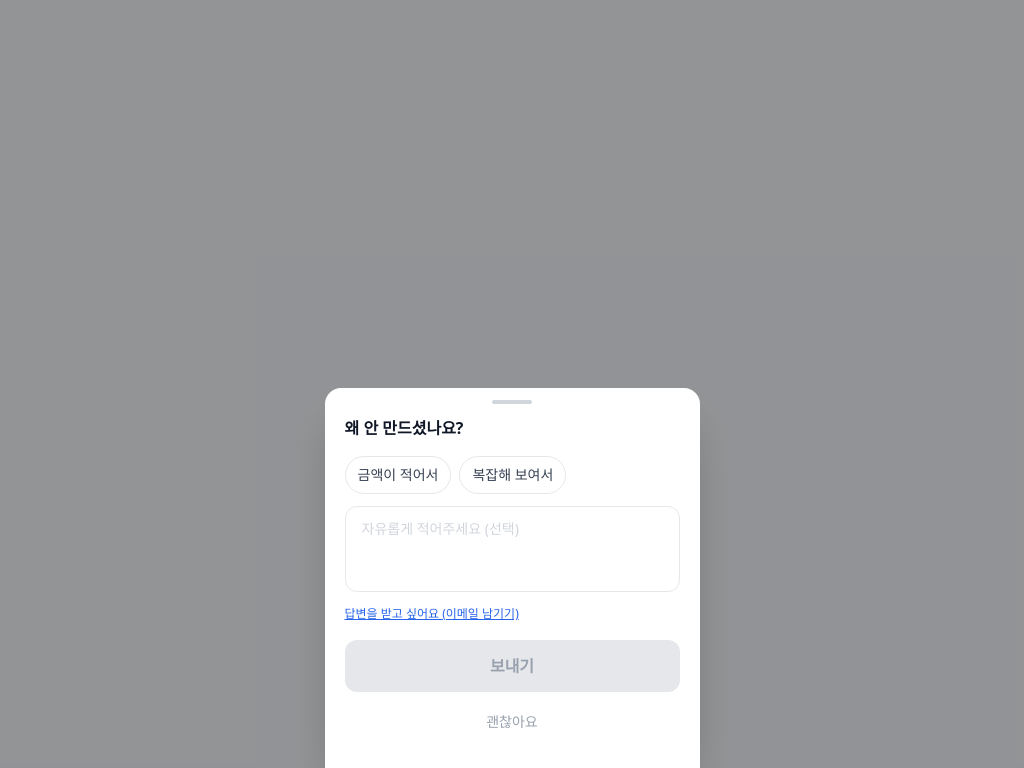
Scenario: FeedbackSheet › 칩만 골라도 보낼 수 있다 — 타이핑을 강제하지 않는다
Click the button "금액이 적어서". click: (398,475)
box: [344, 456, 451, 494]
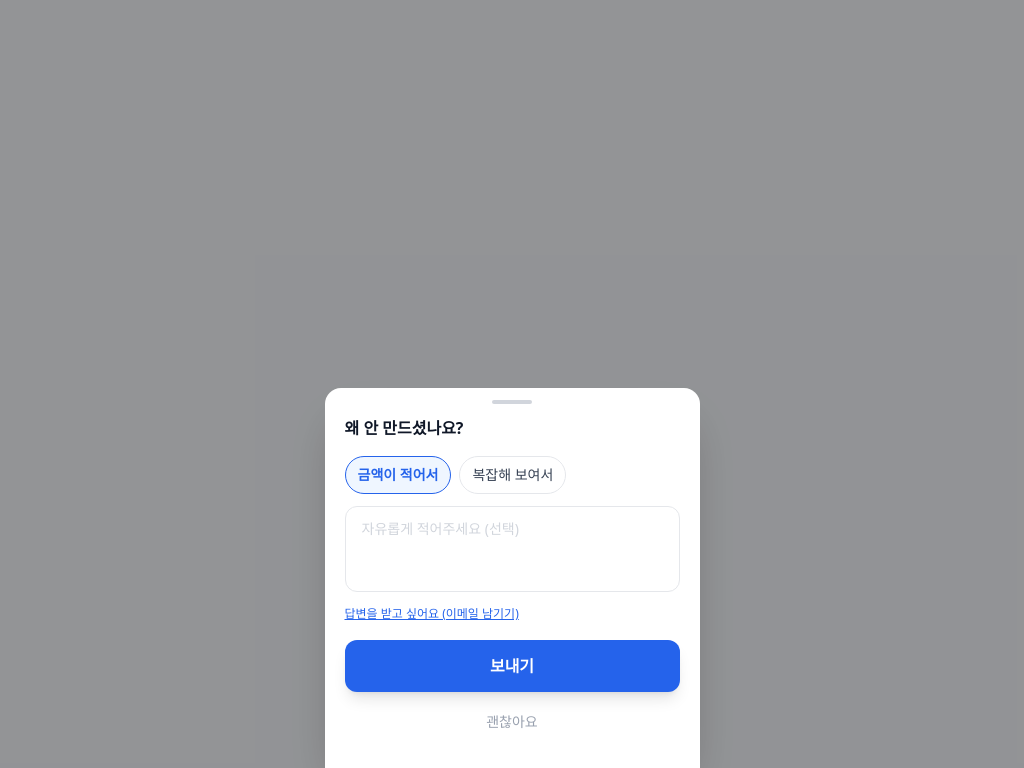
Now the button "보내기" is enabled, box [344, 640, 680, 692]
